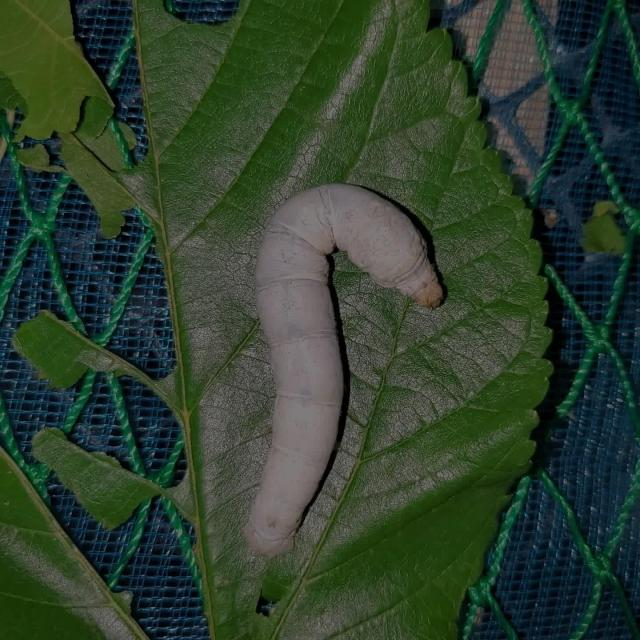Healthy: (221, 135, 471, 582)
